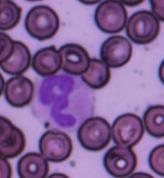N: (30, 71, 95, 132)
